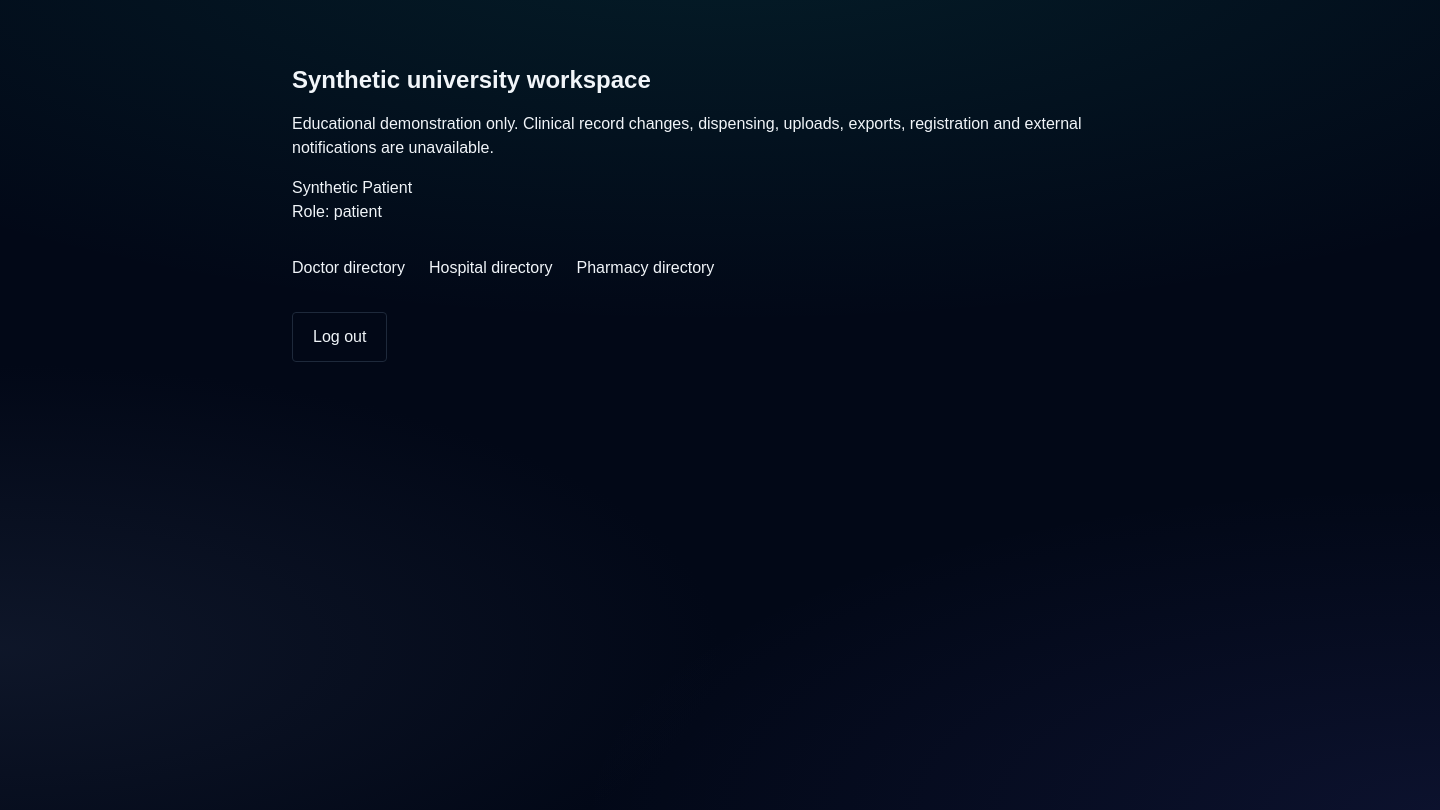
logout failure does not falsely announce success or clear the local session
The image size is (1440, 810).
Expected: the heading "Synthetic Patient" is shown, [292,179,412,196]
Click the button "Log out". click: (340, 337)
box: [292,312,387,362]
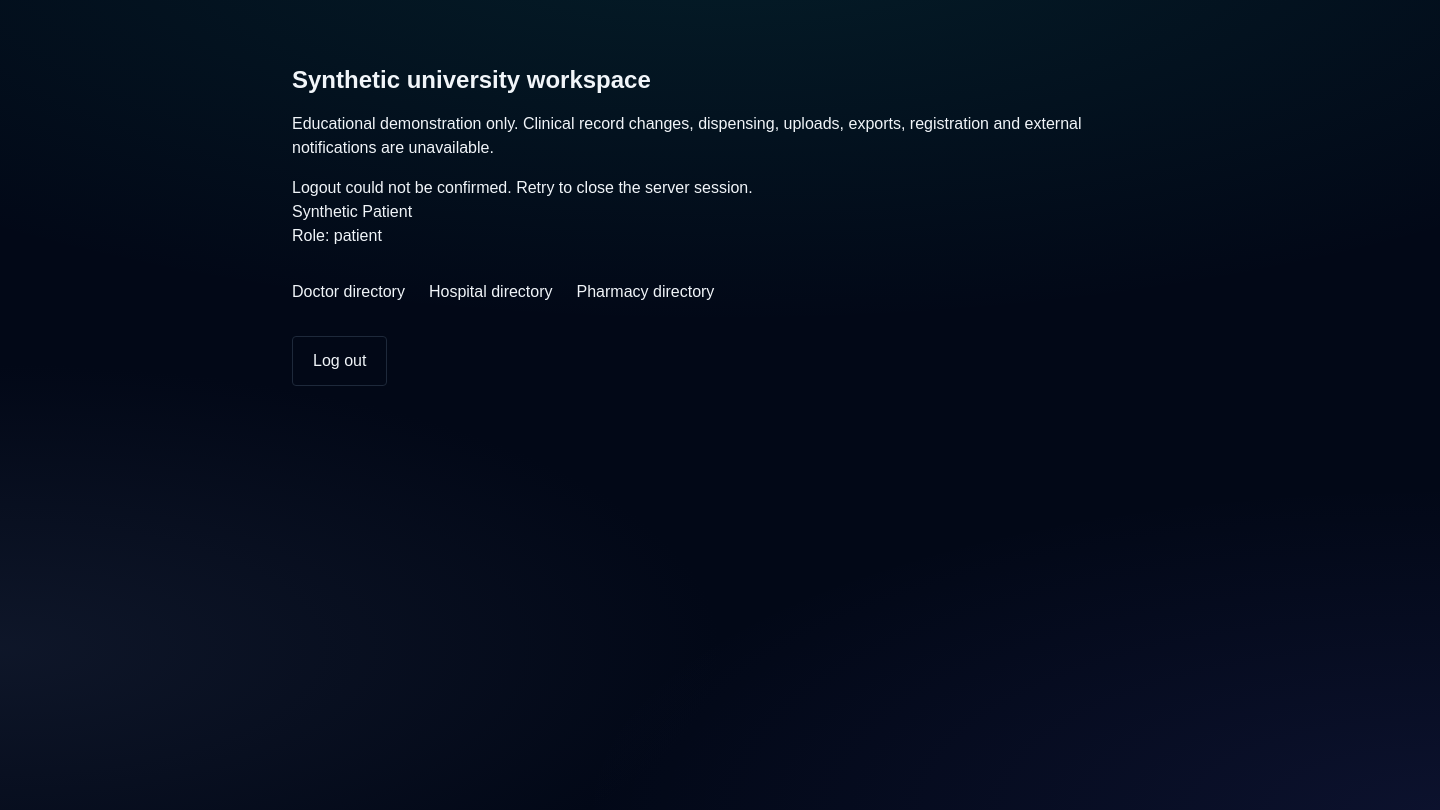
Expected: the message shows "could not be confirmed", [292,179,753,196]
